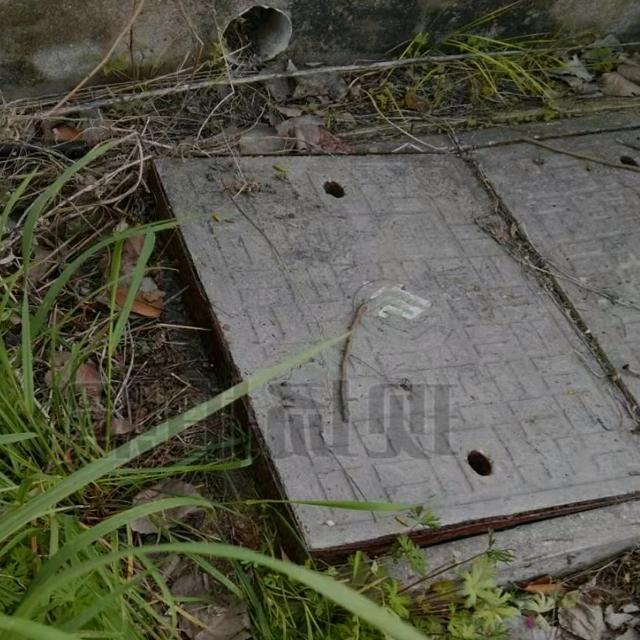uncovered: (136, 105, 640, 592)
